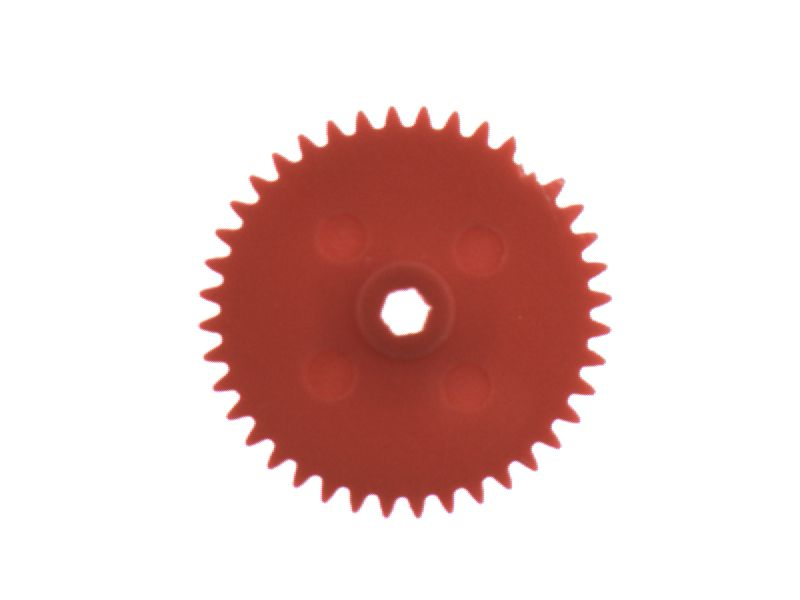defect_lack: (503, 131, 570, 194)
